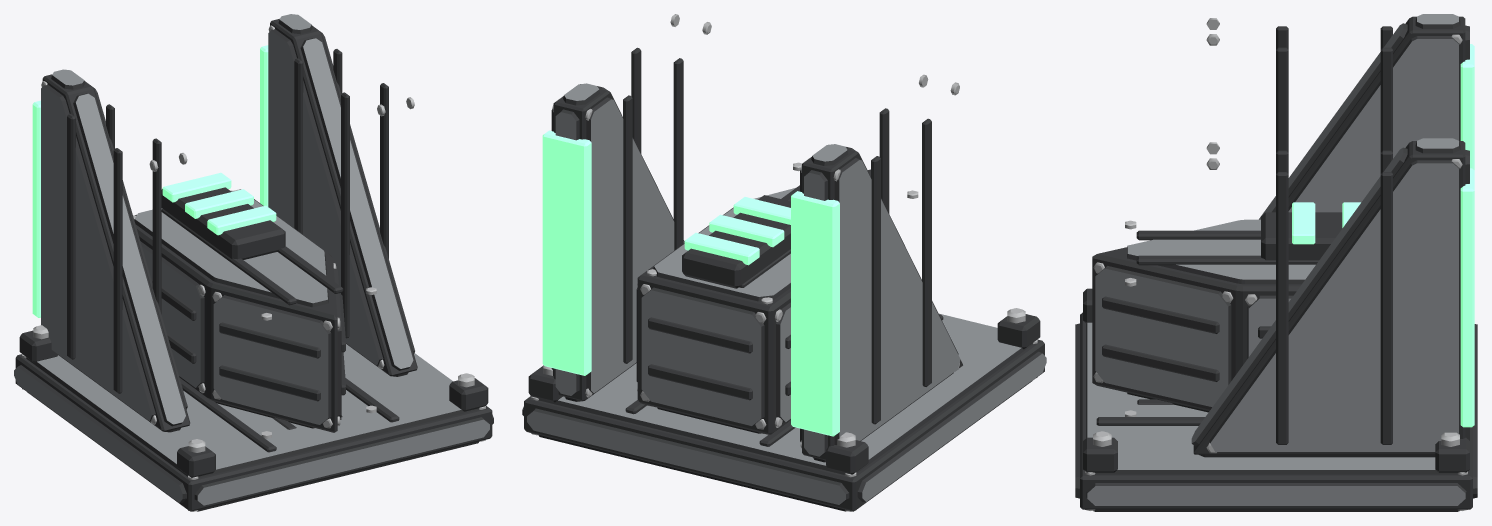
Rendered from R4X_MobilityBooster.fbx.
The picture shows the model from 3 angles, left to right: view 1: azimuth 30°, elevation 25°; view 2: azimuth 150°, elevation 25°; view 3: azimuth 270°, elevation 25°; orthographic projection. The views are drawn at different scales.
Parts seen in each view (by area): view 1: R4X_MobilityBooster_Body; view 2: R4X_MobilityBooster_Body; view 3: R4X_MobilityBooster_Body.
Part boxes in pixels (left/top/right/bottom): R4X_MobilityBooster_Body: left=14, top=14, right=493, bottom=511; R4X_MobilityBooster_Body: left=522, top=14, right=1046, bottom=511; R4X_MobilityBooster_Body: left=1075, top=14, right=1477, bottom=511.
Bounding box in the file's own units: 0.52 × 0.5 × 0.52.
